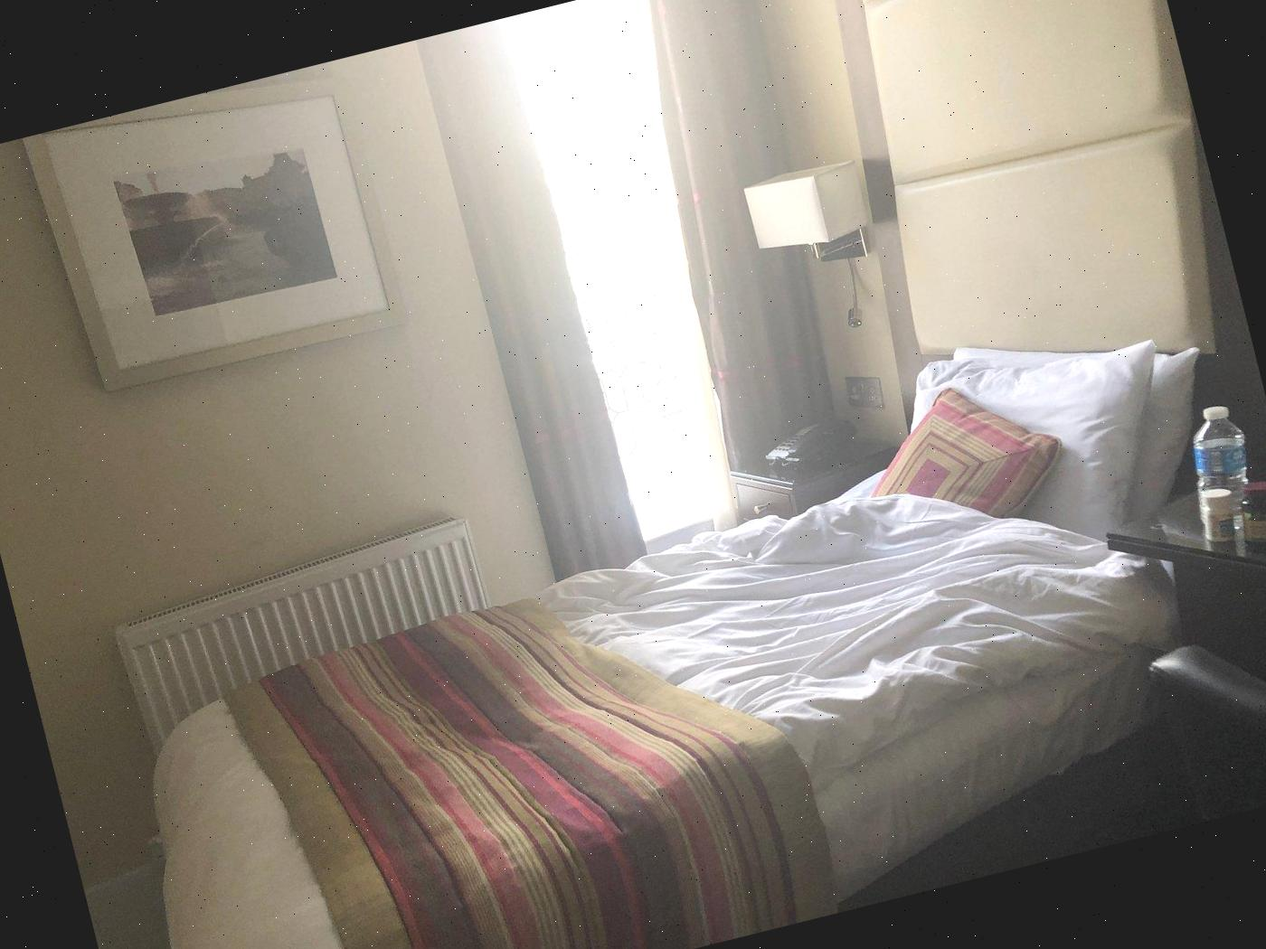Disorganized_pillow: (853, 328, 1195, 569)
lamp: (703, 136, 899, 324)
messy_bed: (125, 285, 1188, 949)
